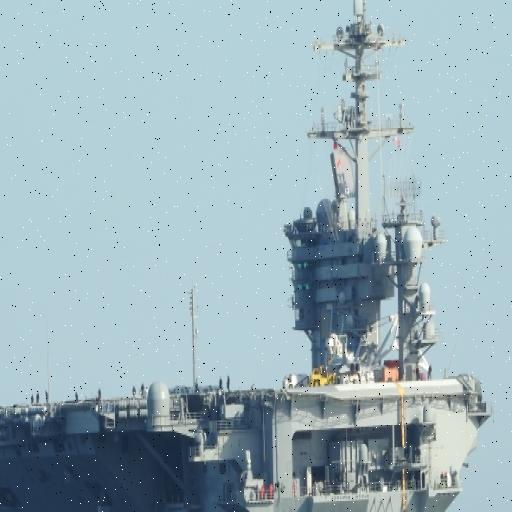Portanaves: (1, 1, 497, 512)
